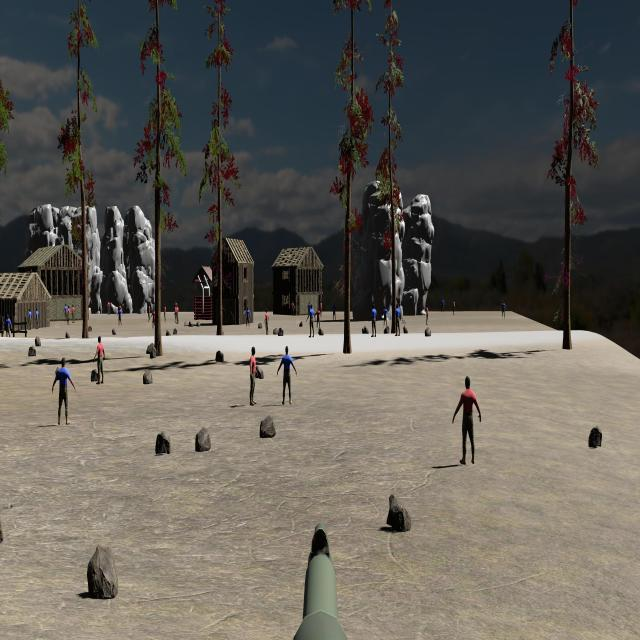Human: (453, 376, 481, 464), (53, 357, 75, 425), (277, 345, 297, 405), (94, 335, 105, 384), (250, 345, 258, 405)
